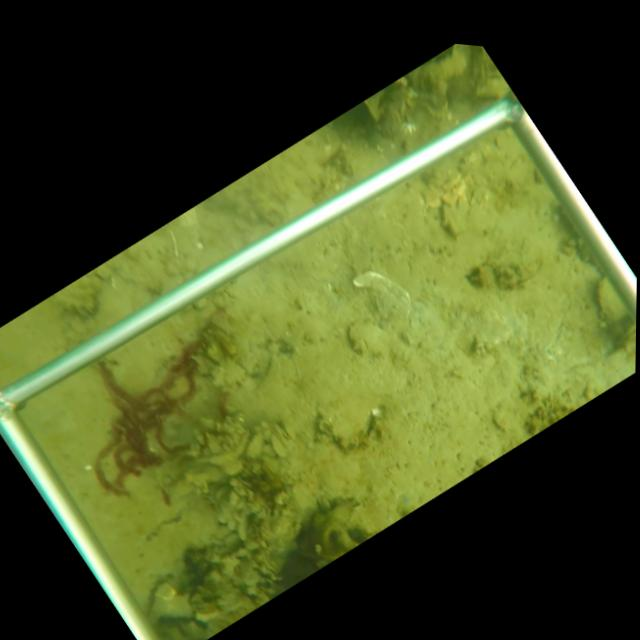Oyster-Closed: (595, 274, 630, 326)
Oyster-Indeterminate: (314, 387, 384, 454)
